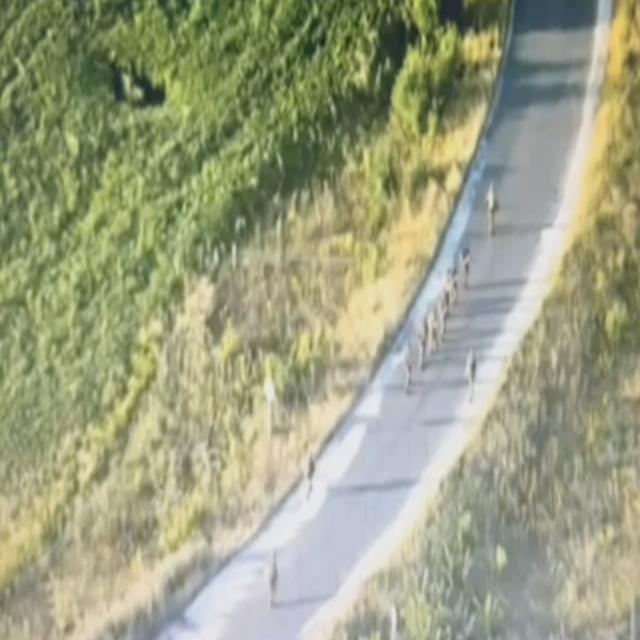infantry: (302, 444, 319, 504), (266, 544, 280, 606), (486, 178, 500, 237), (465, 346, 479, 401), (417, 311, 429, 373), (437, 282, 448, 340), (460, 239, 472, 291), (448, 254, 459, 306), (403, 342, 413, 395), (427, 302, 437, 354)
